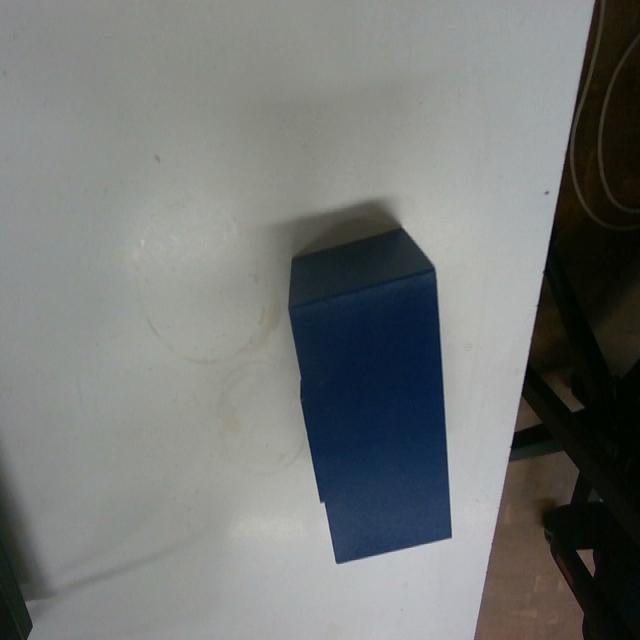Blue Cuboid: (285, 223, 454, 564)
